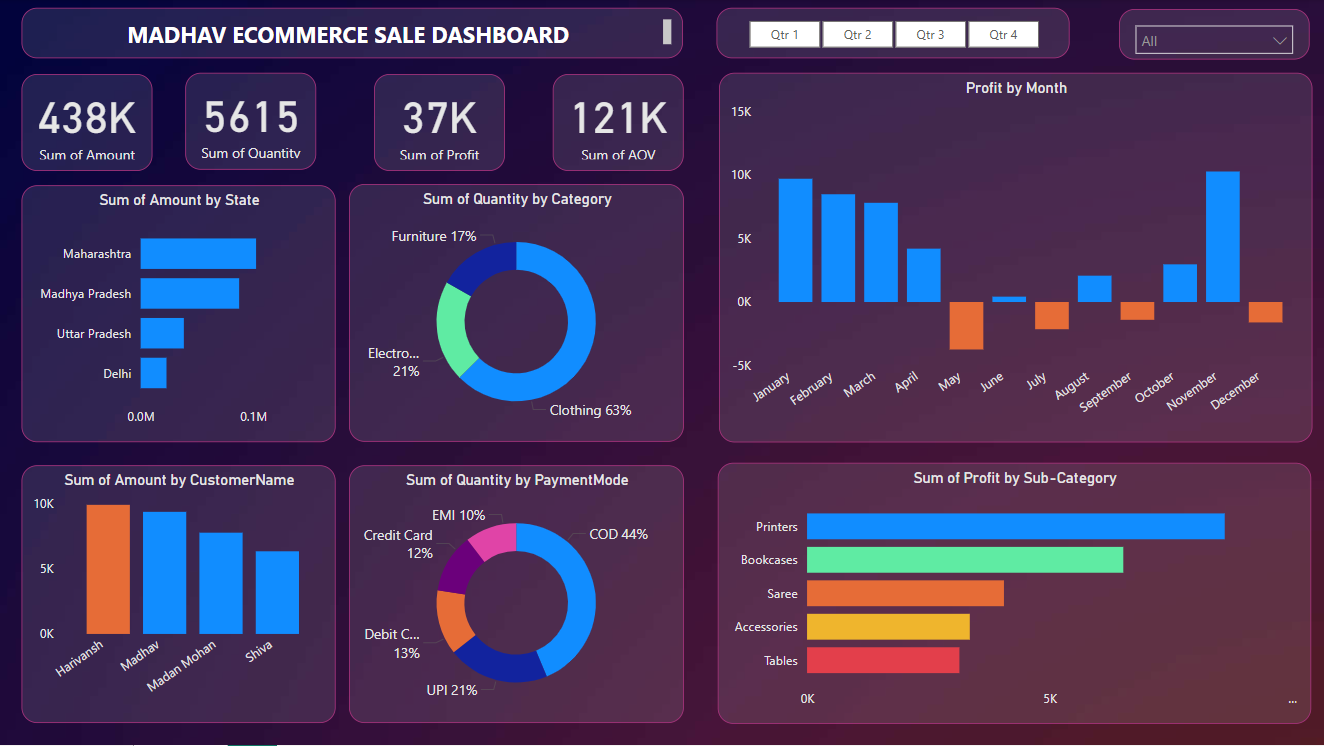

Layout of this report page (visuals, bound fields, positions):
{"tool":"powerbi","page":{"name":"Page 1","canvas":[1280,720],"ordinal":0},"visuals":[{"type":"columnChart","title":"Profit by Month","fields":{"Y":["Details.Profit"],"Category":["Orders.Order Date.Variation.Date Hierarchy.Month"]},"box":[694.8,71.4,572.4,356.9],"z":0},{"type":"barChart","fields":{"Category":["Details.Sub-Category"],"Y":["Details.Profit"]},"box":[693.3,447.2,572.4,252],"z":1000},{"type":"donutChart","fields":{"Category":["Details.Category"],"Y":["Details.Quantity"]},"box":[337.9,179.2,323.4,249.1],"z":2000},{"type":"donutChart","fields":{"Y":["Details.Quantity"],"Category":["Details.PaymentMode"]},"box":[337.9,450.1,323.4,249.1],"z":3000},{"type":"card","fields":{"Values":["Details.Amount"]},"box":[22.3,72.4,126.6,93.2],"z":4000},{"type":"card","fields":{"Values":["Details.Quantity"]},"box":[179.5,71,126.6,93.2],"z":5000},{"type":"card","fields":{"Values":["Details.Profit"]},"box":[361.8,72.4,126.6,93.2],"z":6000},{"type":"card","fields":{"Values":["Details.AOV"]},"box":[534.4,72.4,126.6,93.2],"z":7000},{"type":"barChart","fields":{"Category":["Orders.State"],"Y":["Details.Amount"]},"box":[22.3,179.5,303.4,247.7],"z":8000},{"type":"columnChart","fields":{"Category":["Orders.CustomerName"],"Y":["Details.Amount"]},"box":[22,450,303,249],"z":9000},{"type":"textbox","box":[22.3,8.3,638.7,48.7],"z":10000},{"type":"slicer","fields":{"Values":["Orders.Order Date.Variation.Date Hierarchy.Quarter"]},"box":[693,8.3,340.9,48.7],"z":11000},{"type":"slicer","fields":{"Values":["Orders.State"]},"box":[1081.3,9.7,183.7,48.7],"z":11001}]}

Visuals, with their boxes in screenshot pixels (x1, y1, x2, y2), scaled from the page's 1280x720 canvas onto the 1324x746 screenshot:
"Profit by Month" columnChart: x1=719, y1=74, x2=1311, y2=444
barChart - Details.Sub-Category x Details.Profit: x1=717, y1=463, x2=1309, y2=724
donutChart - Details.Category x Details.Quantity: x1=350, y1=186, x2=684, y2=444
donutChart - Details.Quantity x Details.PaymentMode: x1=350, y1=466, x2=684, y2=724
card - Details.Amount: x1=23, y1=75, x2=154, y2=172
card - Details.Quantity: x1=186, y1=74, x2=317, y2=170
card - Details.Profit: x1=374, y1=75, x2=505, y2=172
card - Details.AOV: x1=553, y1=75, x2=684, y2=172
barChart - Orders.State x Details.Amount: x1=23, y1=186, x2=337, y2=443
columnChart - Orders.CustomerName x Details.Amount: x1=23, y1=466, x2=336, y2=724
textbox: x1=23, y1=9, x2=684, y2=59
slicer - Orders.Order Date.Variation.Date Hierarchy.Quarter: x1=717, y1=9, x2=1069, y2=59
slicer - Orders.State: x1=1118, y1=10, x2=1308, y2=61
